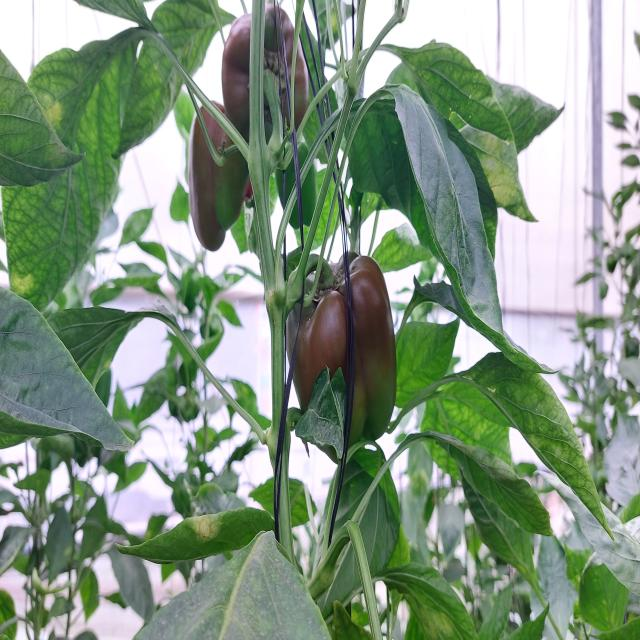BrownishRed--Can-be-Harvested: (277, 258, 407, 452), (220, 5, 316, 155)
